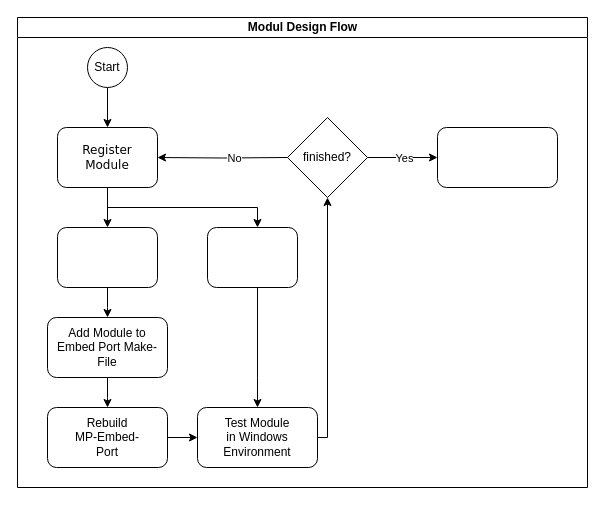
Image size: 605x505. Some labels were removed from this diagram. The centre of each missing label's shape, as x and y in pixels:
"Add Module Functions/Classes & Constants" belongs at point (107, 257).
"Create Mockup-API-Class" belongs at point (252, 257).
"Done" belongs at point (497, 157).
